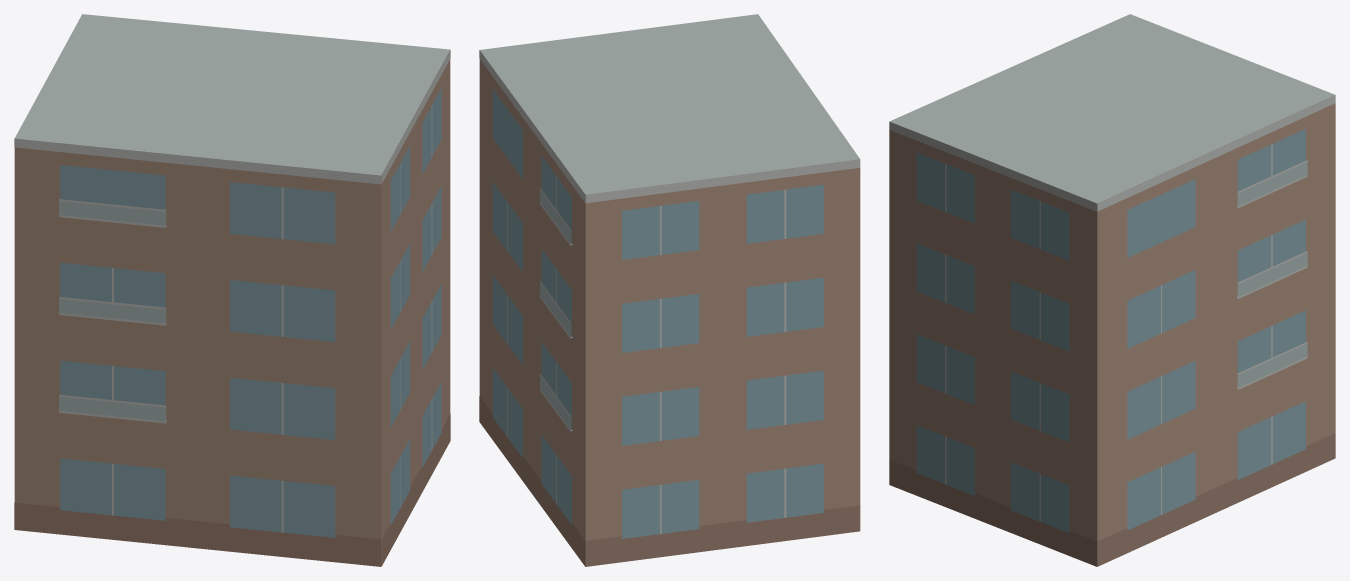
File: survey-upis-32511176.glb
The picture shows the model from 3 angles, left to right: view 1: azimuth 30°, elevation 25°; view 2: azimuth 150°, elevation 25°; view 3: azimuth 270°, elevation 25°; orthographic projection. The views are drawn at different scales.
Visible parts, largest first — view 1: survey-upis-32511176.tmp; view 2: survey-upis-32511176.tmp; view 3: survey-upis-32511176.tmp.
Part boxes in pixels (x1=…): survey-upis-32511176.tmp: x1=14, y1=14, x2=450, y2=566; survey-upis-32511176.tmp: x1=479, y1=14, x2=860, y2=566; survey-upis-32511176.tmp: x1=889, y1=14, x2=1335, y2=566.
Size of the model in its own units: 12.03 by 10.75 by 11.98.
